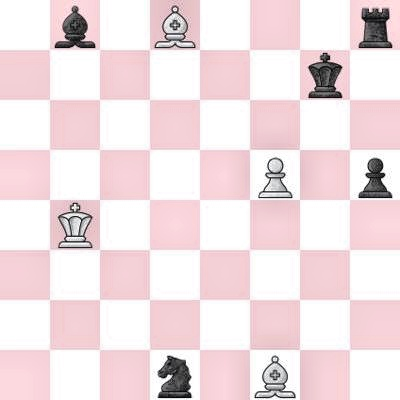black-bishop: (50, 0, 100, 50)
black-king: (300, 50, 350, 100)
black-knight: (150, 350, 200, 400)
black-pawn: (350, 150, 400, 200)
black-rook: (350, 0, 400, 50)
white-bishop: (150, 0, 200, 50), (250, 350, 300, 400)
white-king: (50, 200, 100, 250)
white-pawn: (250, 150, 300, 200)
